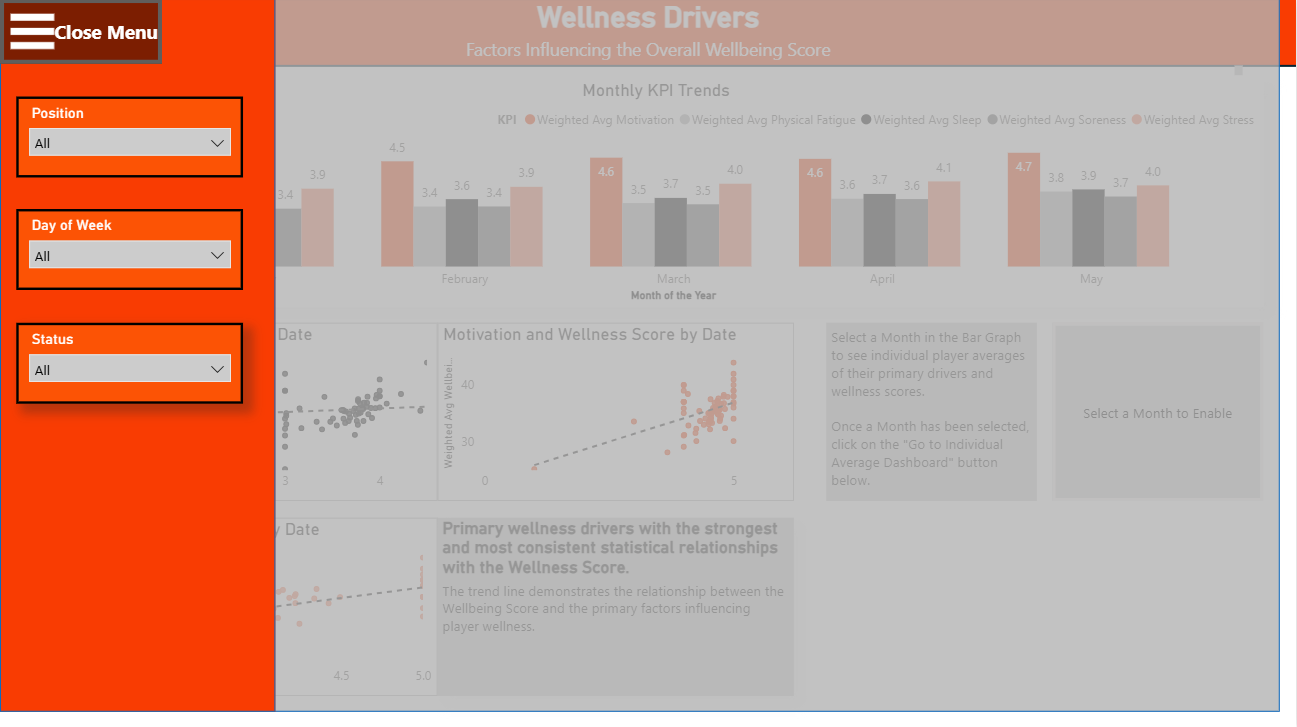

Layout of this report page (visuals, bound fields, positions):
{"tool":"powerbi","page":{"name":"Wellness Drivers","canvas":[1280,720],"ordinal":1},"visuals":[{"type":"clusteredColumnChart","title":"Monthly KPI Trends","fields":{"Category":["MonthSortTable.Month"],"Y":["_Measures.Weighted Avg Motivation","_Measures.Weighted Avg Physical Fatigue","_Measures.Weighted Avg Sleep","_Measures.Weighted Avg Soreness","_Measures.Weighted Avg Stress"]},"box":[48,80,1200,224],"z":0},{"type":"textbox","title":"Wellness Drivers","box":[48,0,1184,80],"z":2000},{"type":"scatterChart","title":"Sleep and Wellness Score by Date","fields":{"Category":["Wellness Data 2025.Date"],"X":["_Measures.Weighted Avg Sleep"],"Y":["_Measures.Weighted Avg Wellbeing"]},"box":[48,320,384,176],"z":4000},{"type":"scatterChart","title":" Motivation and Wellness Score by Date","fields":{"Category":["Wellness Data 2025.Date"],"X":["_Measures.Weighted Avg Motivation"],"Y":["_Measures.Weighted Avg Wellbeing"]},"box":[432,320,352,176],"z":6000},{"type":"scatterChart","title":"Stress and Wellness Score by Date","fields":{"Category":["Wellness Data 2025.Date"],"X":["_Measures.Weighted Avg Stress"],"Y":["_Measures.Weighted Avg Wellbeing"]},"box":[48,512,384,176],"z":7000},{"type":"textbox","title":"Primary wellness drivers with the strongest and most consistent statistical relationships with the Wellness Score.","box":[432,512,352,176],"z":8000},{"type":"actionButton","box":[1040,320,208,176],"z":9000},{"type":"textbox","box":[816,320,208,176],"z":10000},{"type":"actionButton","box":[0,0,160,64],"z":11000}]}

Visuals, with their boxes on the page's 1280x720 design canvas (x1, y1, x2, y2). These are canvas units, not pixel positions in the 1297x727 screenshot, which may show the page scaled, cropped or inside an application window:
"Monthly KPI Trends" clusteredColumnChart: 48:80:1248:304
"Wellness Drivers" textbox: 48:0:1232:80
"Sleep and Wellness Score by Date" scatterChart: 48:320:432:496
" Motivation and Wellness Score by Date" scatterChart: 432:320:784:496
"Stress and Wellness Score by Date" scatterChart: 48:512:432:688
"Primary wellness drivers with the strongest and most consistent statistical relationships with the Wellness Score." textbox: 432:512:784:688
actionButton: 1040:320:1248:496
textbox: 816:320:1024:496
actionButton: 0:0:160:64
